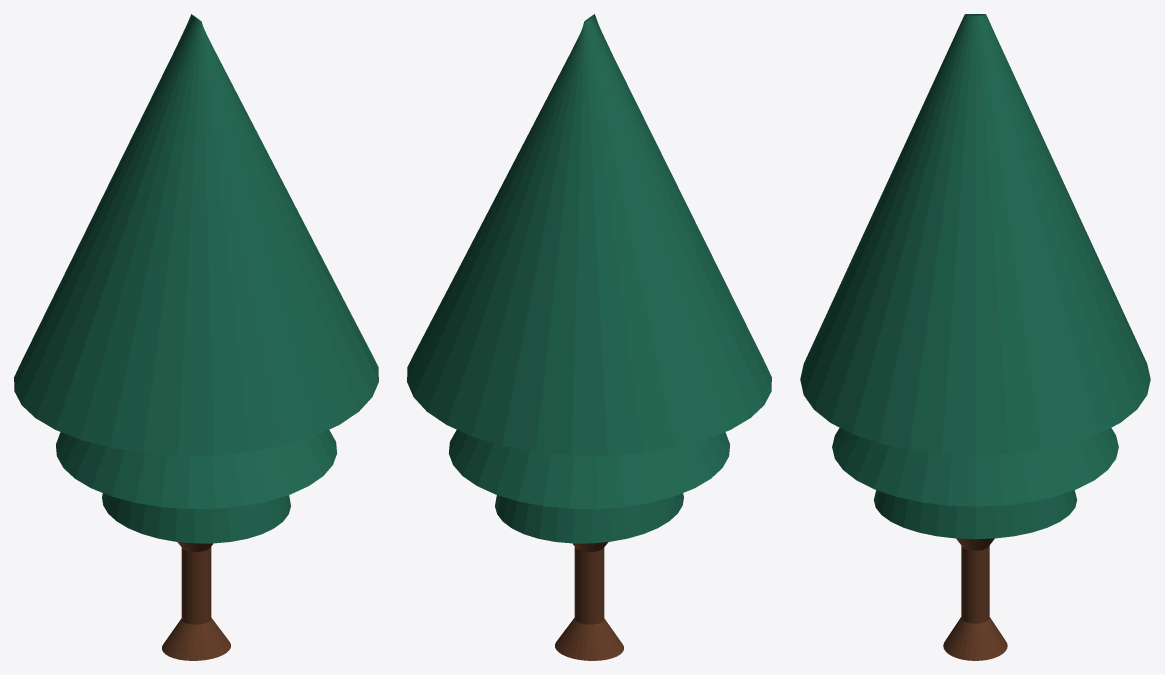
File: Tree.fbx
3 renders of one model, left to right at view 1: azimuth 30°, elevation 25°; view 2: azimuth 150°, elevation 25°; view 3: azimuth 270°, elevation 25°, orthographic.
Visible parts, largest first — view 1: Cylinder; view 2: Cylinder; view 3: Cylinder.
Part boxes in pixels (x1,y1,x2,y2): Cylinder: (14, 14, 378, 660); Cylinder: (407, 14, 771, 660); Cylinder: (800, 14, 1150, 660).
Size of the model in its own units: 1367 by 2551 by 1283.
